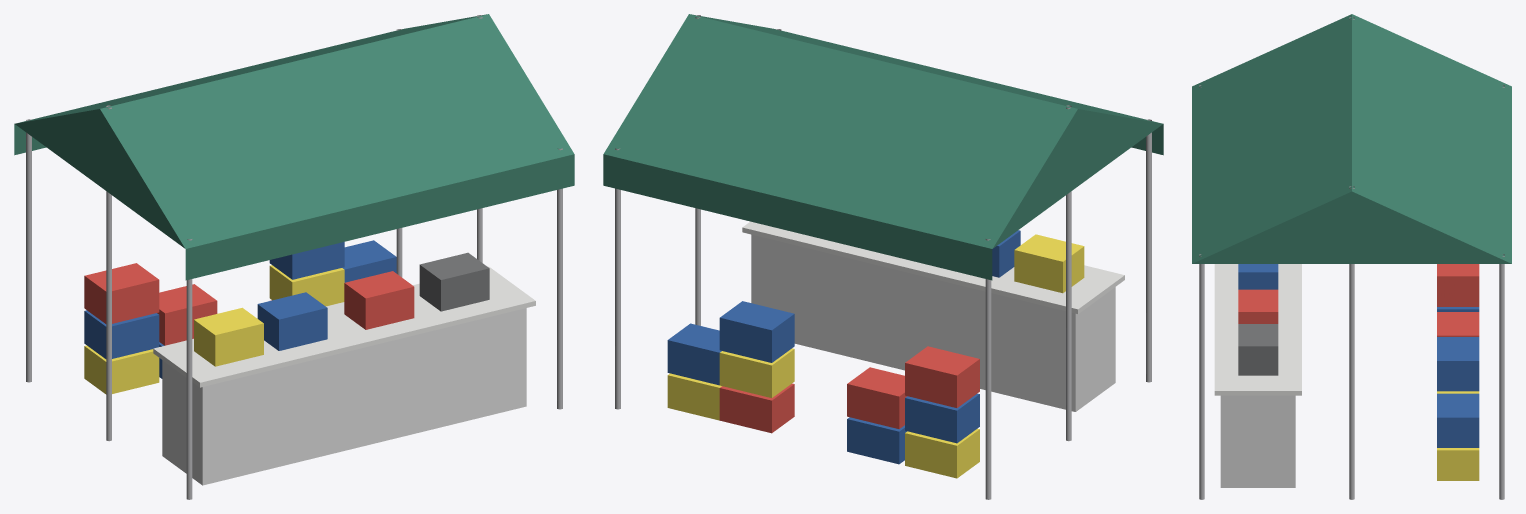
The model's file is tent_kiosk.glb.
3 renders of one model, left to right at view 1: azimuth 30°, elevation 25°; view 2: azimuth 150°, elevation 25°; view 3: azimuth 270°, elevation 25°, orthographic. The views are drawn at different scales.
Visible parts, largest first — view 1: tent_kiosk; view 2: tent_kiosk; view 3: tent_kiosk.
Boxes of the visible parts, x1,y1,x2,y2 form: tent_kiosk: (14, 14, 574, 499); tent_kiosk: (603, 14, 1163, 499); tent_kiosk: (1192, 14, 1511, 499).
Size of the model in its own units: 3.36 by 2.75 by 2.56.
